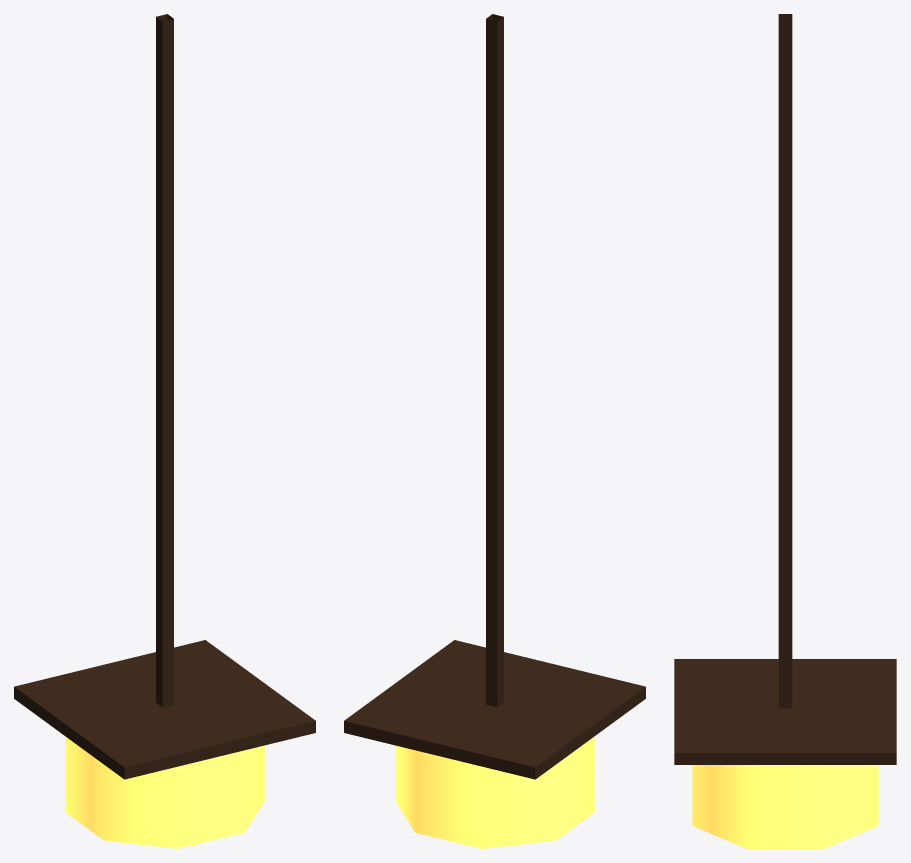
Rendered from pendant.glb.
3 views of the same model, side by side, from view 1: azimuth 30°, elevation 25°; view 2: azimuth 150°, elevation 25°; view 3: azimuth 270°, elevation 25° (orthographic).
Parts seen in each view (by area): view 1: pendant; view 2: pendant; view 3: pendant.
Boxes of the visible parts, box(x1,y1,x2,y2) form: pendant: box(14, 14, 315, 848); pendant: box(344, 14, 645, 848); pendant: box(674, 14, 896, 848).
Size of the model in its own units: 0.66 by 2.6 by 0.66.
